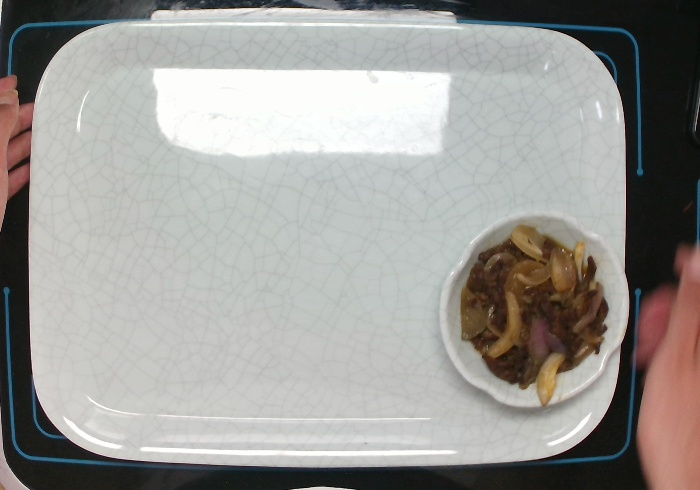JYsf-Ao_Yuan_Wan: (436, 207, 631, 411)
